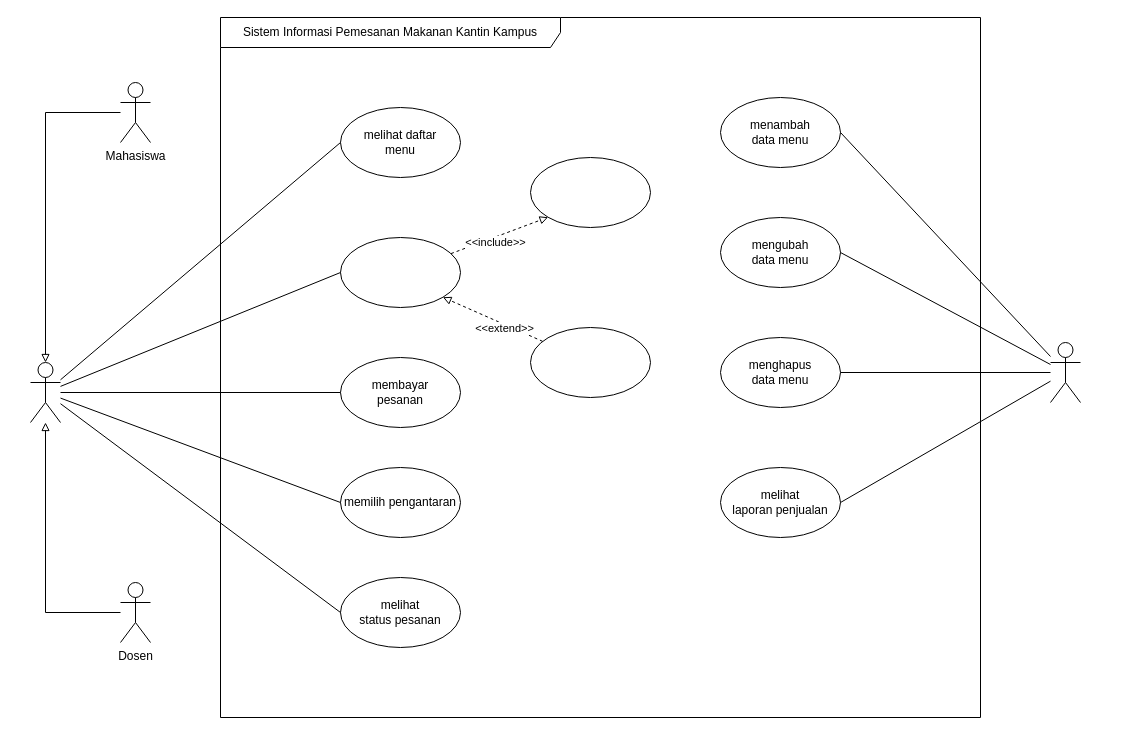
The diagram is 1121 pixels wide and 735 high, and some of its shapes have lost their labels. The shapes that lost their labels are listed below. From the top down, each one's centre as x and y in pixels, then its label:
the point at 590,192: memeriksa ketersediaan menu
the point at 400,272: memesan makanan
the point at 590,362: membatalkan pesanan
the point at 1065,372: Penjual Kantin
the point at 45,392: Pelanggan
